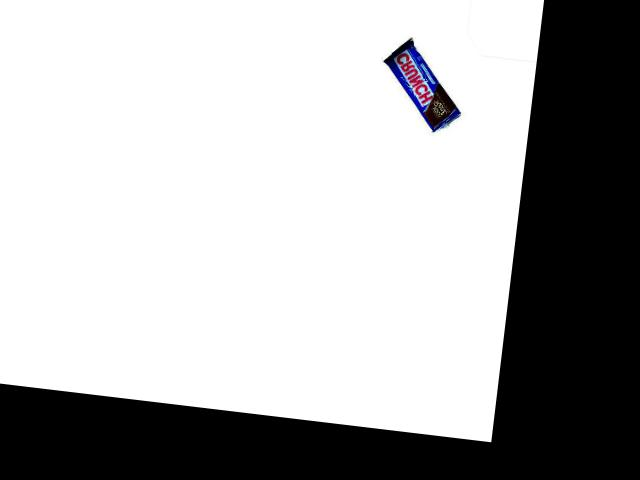chocolate: (374, 33, 470, 137)
